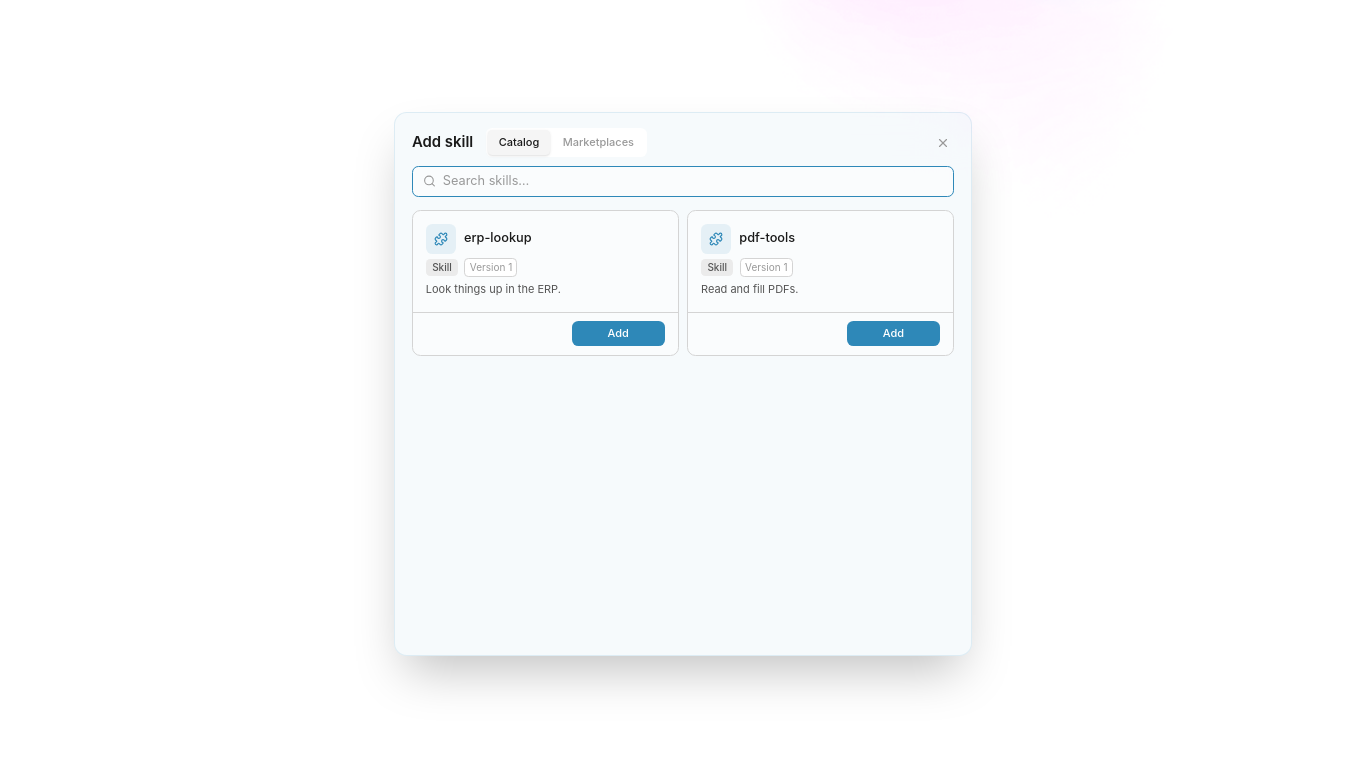
Scenario: SkillAddModal › filters by the search
Expected: the text "erp-lookup" is shown, left=464, top=230, right=532, bottom=245
Type "pdf" into the field labelled "Search skills" at point(683, 181), box left=412, top=166, right=954, bottom=197
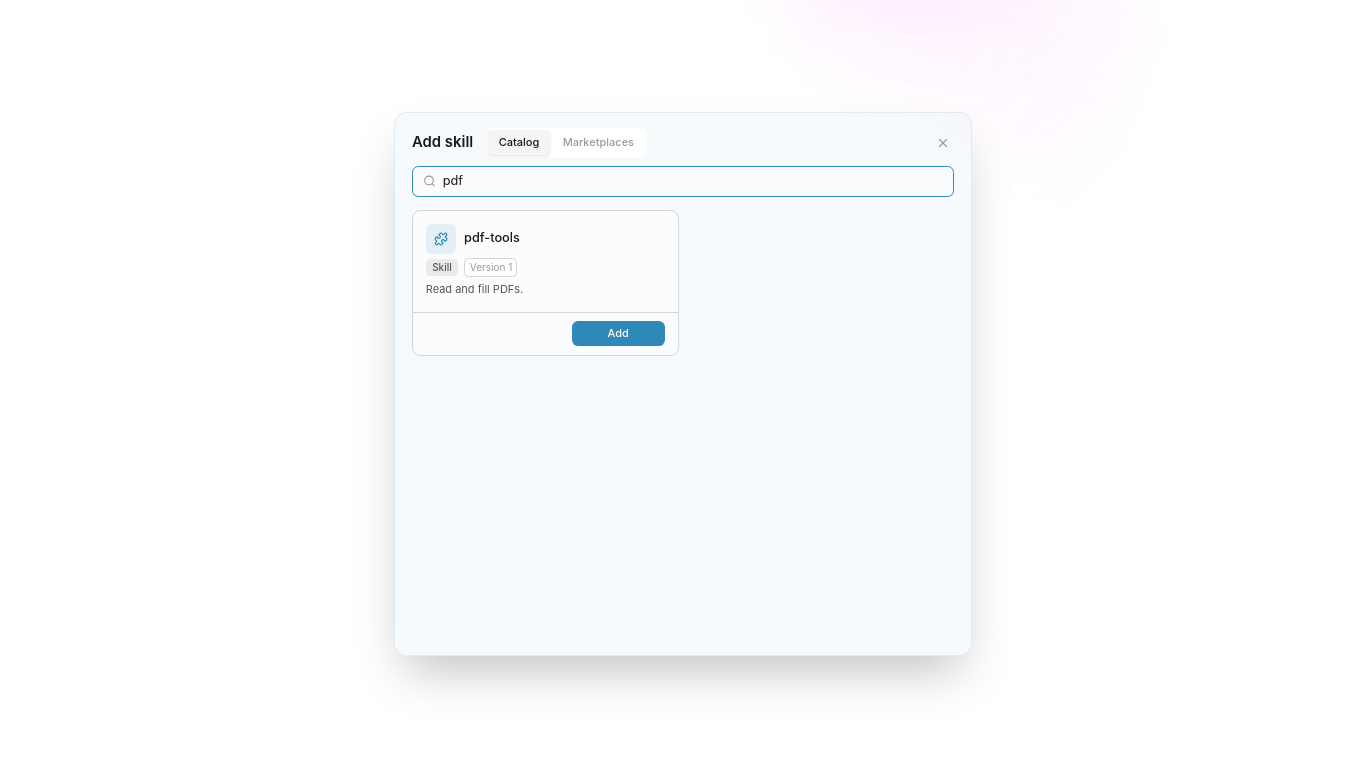
Expected: the text "pdf-tools" is shown, left=464, top=230, right=520, bottom=245
Now the button "erp-lookup" is gone
